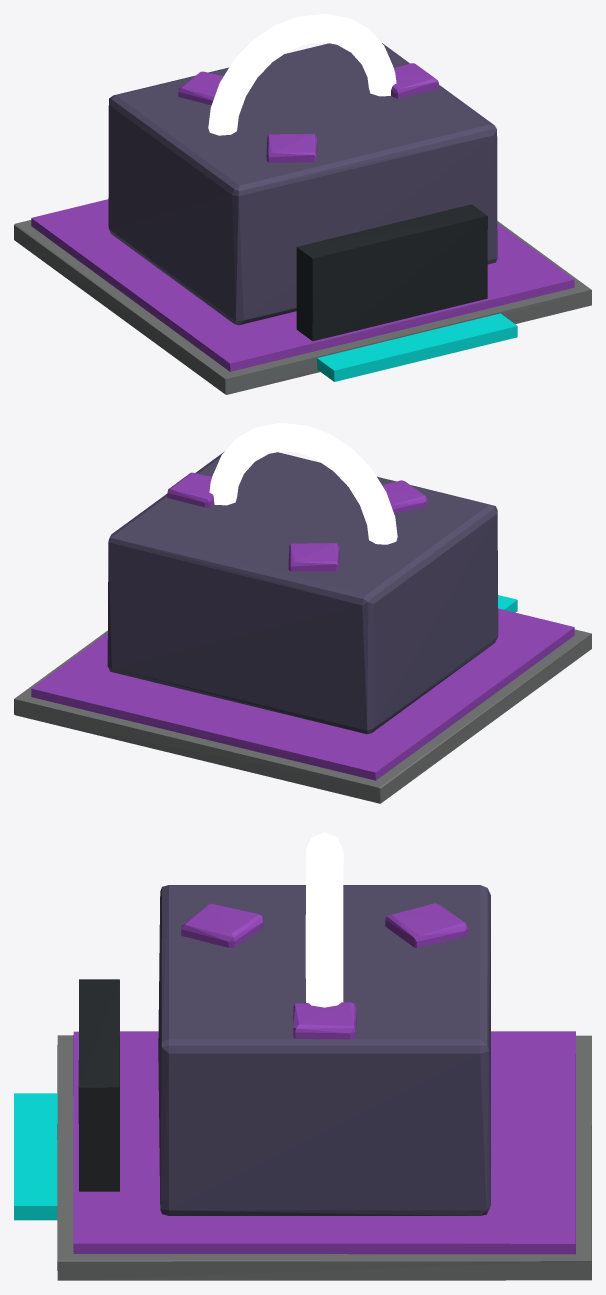
File: SM_Chronolegion_CH_WarFactory_LOD1.fbx
The picture shows the model from 3 angles, top to bottom: view 1: azimuth 30°, elevation 25°; view 2: azimuth 150°, elevation 25°; view 3: azimuth 270°, elevation 25°; orthographic projection. The views are drawn at different scales.
Visible parts, largest first — view 1: LOD01_SM_Chronolegion_CH_WarFactory; view 2: LOD01_SM_Chronolegion_CH_WarFactory; view 3: LOD01_SM_Chronolegion_CH_WarFactory.
Part boxes in pixels (x1,y1,x2,y2): LOD01_SM_Chronolegion_CH_WarFactory: [14, 14, 591, 394]; LOD01_SM_Chronolegion_CH_WarFactory: [14, 423, 591, 803]; LOD01_SM_Chronolegion_CH_WarFactory: [14, 832, 591, 1280].
Bounding box in the file's own units: 797 × 862 × 533.
